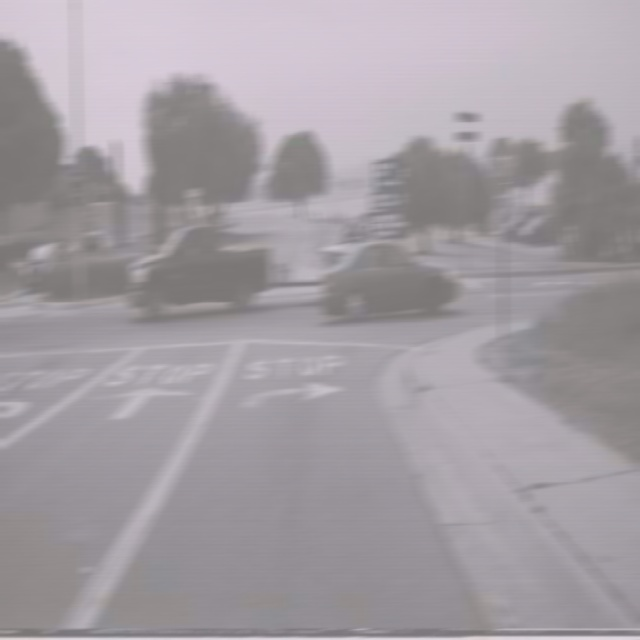stop: (486, 134, 517, 197)
